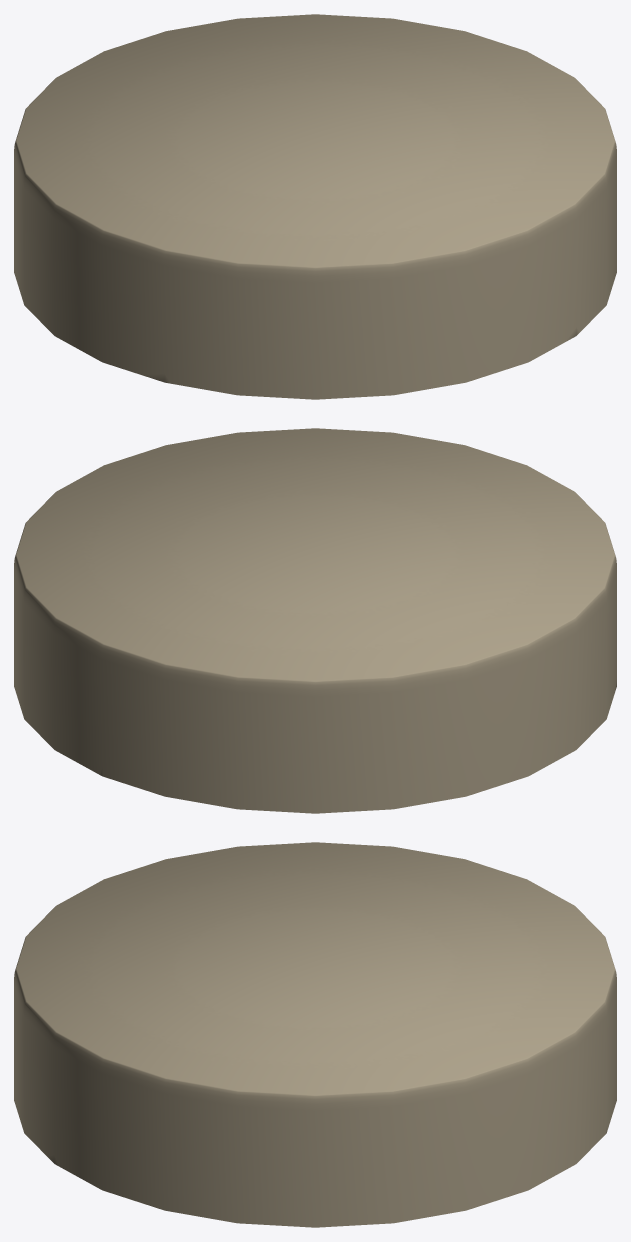
Rendered from human_base.glb.
The picture shows the model from 3 angles, top to bottom: view 1: azimuth 30°, elevation 25°; view 2: azimuth 150°, elevation 25°; view 3: azimuth 270°, elevation 25°; orthographic projection.
Visible parts, largest first — view 1: base_low; view 2: base_low; view 3: base_low.
Part boxes in pixels (x1,y1,x2,y2): base_low: (14, 14, 616, 399); base_low: (14, 428, 616, 813); base_low: (14, 842, 616, 1227).
Bounding box in the file's own units: 1.25 × 0.3005 × 1.25.
1 material, 1 textured.
